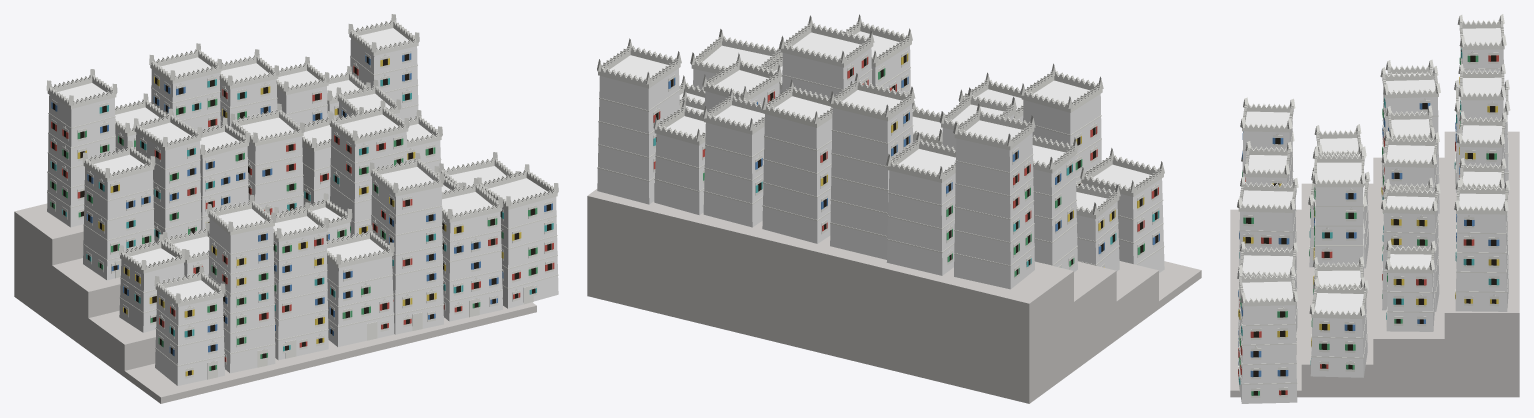
File: SM_RijalAlmaaVillage.fbx
The picture shows the model from 3 angles, left to right: view 1: azimuth 30°, elevation 25°; view 2: azimuth 150°, elevation 25°; view 3: azimuth 270°, elevation 25°; orthographic projection. The views are drawn at different scales.
Visible parts, largest first — view 1: SM_RijalAlmaaVillage; view 2: SM_RijalAlmaaVillage; view 3: SM_RijalAlmaaVillage.
Boxes of the visible parts, x1,y1,x2,y2 form: SM_RijalAlmaaVillage: (14, 14, 558, 403); SM_RijalAlmaaVillage: (587, 14, 1201, 403); SM_RijalAlmaaVillage: (1230, 14, 1519, 403).
Bounding box in the file's own units: 6455 × 3300 × 4050.
